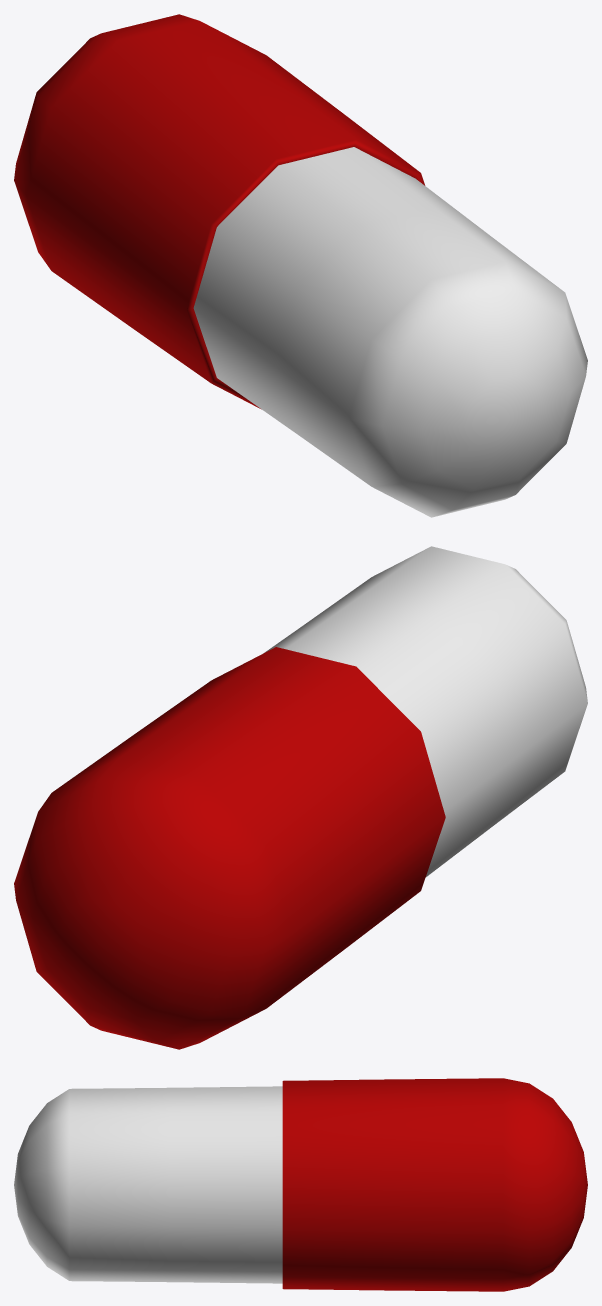
The picture shows the model from 3 angles, top to bottom: view 1: azimuth 30°, elevation 25°; view 2: azimuth 150°, elevation 25°; view 3: azimuth 270°, elevation 25°; orthographic projection. The views are drawn at different scales.
Parts seen in each view (by area): view 1: polySurface2, polySurface1; view 2: polySurface1, polySurface2; view 3: polySurface1, polySurface2.
Part boxes in pixels (x1,y1,x2,y2): polySurface2: (193, 147, 587, 517); polySurface1: (14, 14, 425, 409); polySurface1: (14, 647, 445, 1049); polySurface2: (263, 546, 587, 877); polySurface1: (282, 1078, 587, 1291); polySurface2: (14, 1086, 282, 1283).
Bounding box in the file's own units: 2.11 × 2.01 × 5.64.
